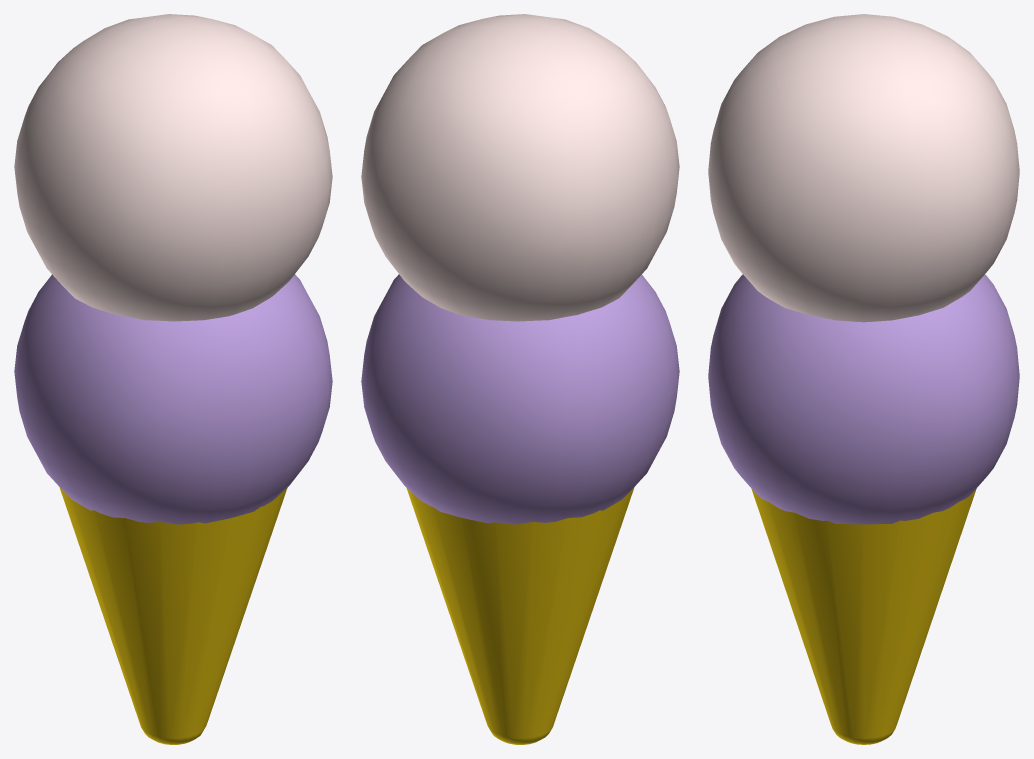
File: City_19_Ice_Cream_4.glb
3 views of the same model, side by side, from view 1: azimuth 30°, elevation 25°; view 2: azimuth 150°, elevation 25°; view 3: azimuth 270°, elevation 25° (orthographic).
Parts seen in each view (by area): view 1: City_19_Ice_Cream_4; view 2: City_19_Ice_Cream_4; view 3: City_19_Ice_Cream_4.
Boxes of the visible parts, x1=… form: City_19_Ice_Cream_4: x1=14, y1=14, x2=332, y2=744; City_19_Ice_Cream_4: x1=361, y1=14, x2=679, y2=744; City_19_Ice_Cream_4: x1=708, y1=14, x2=1019, y2=744.
Size of the model in its own units: 0.1966 by 0.4918 by 0.1966.
1 material, 1 textured.
